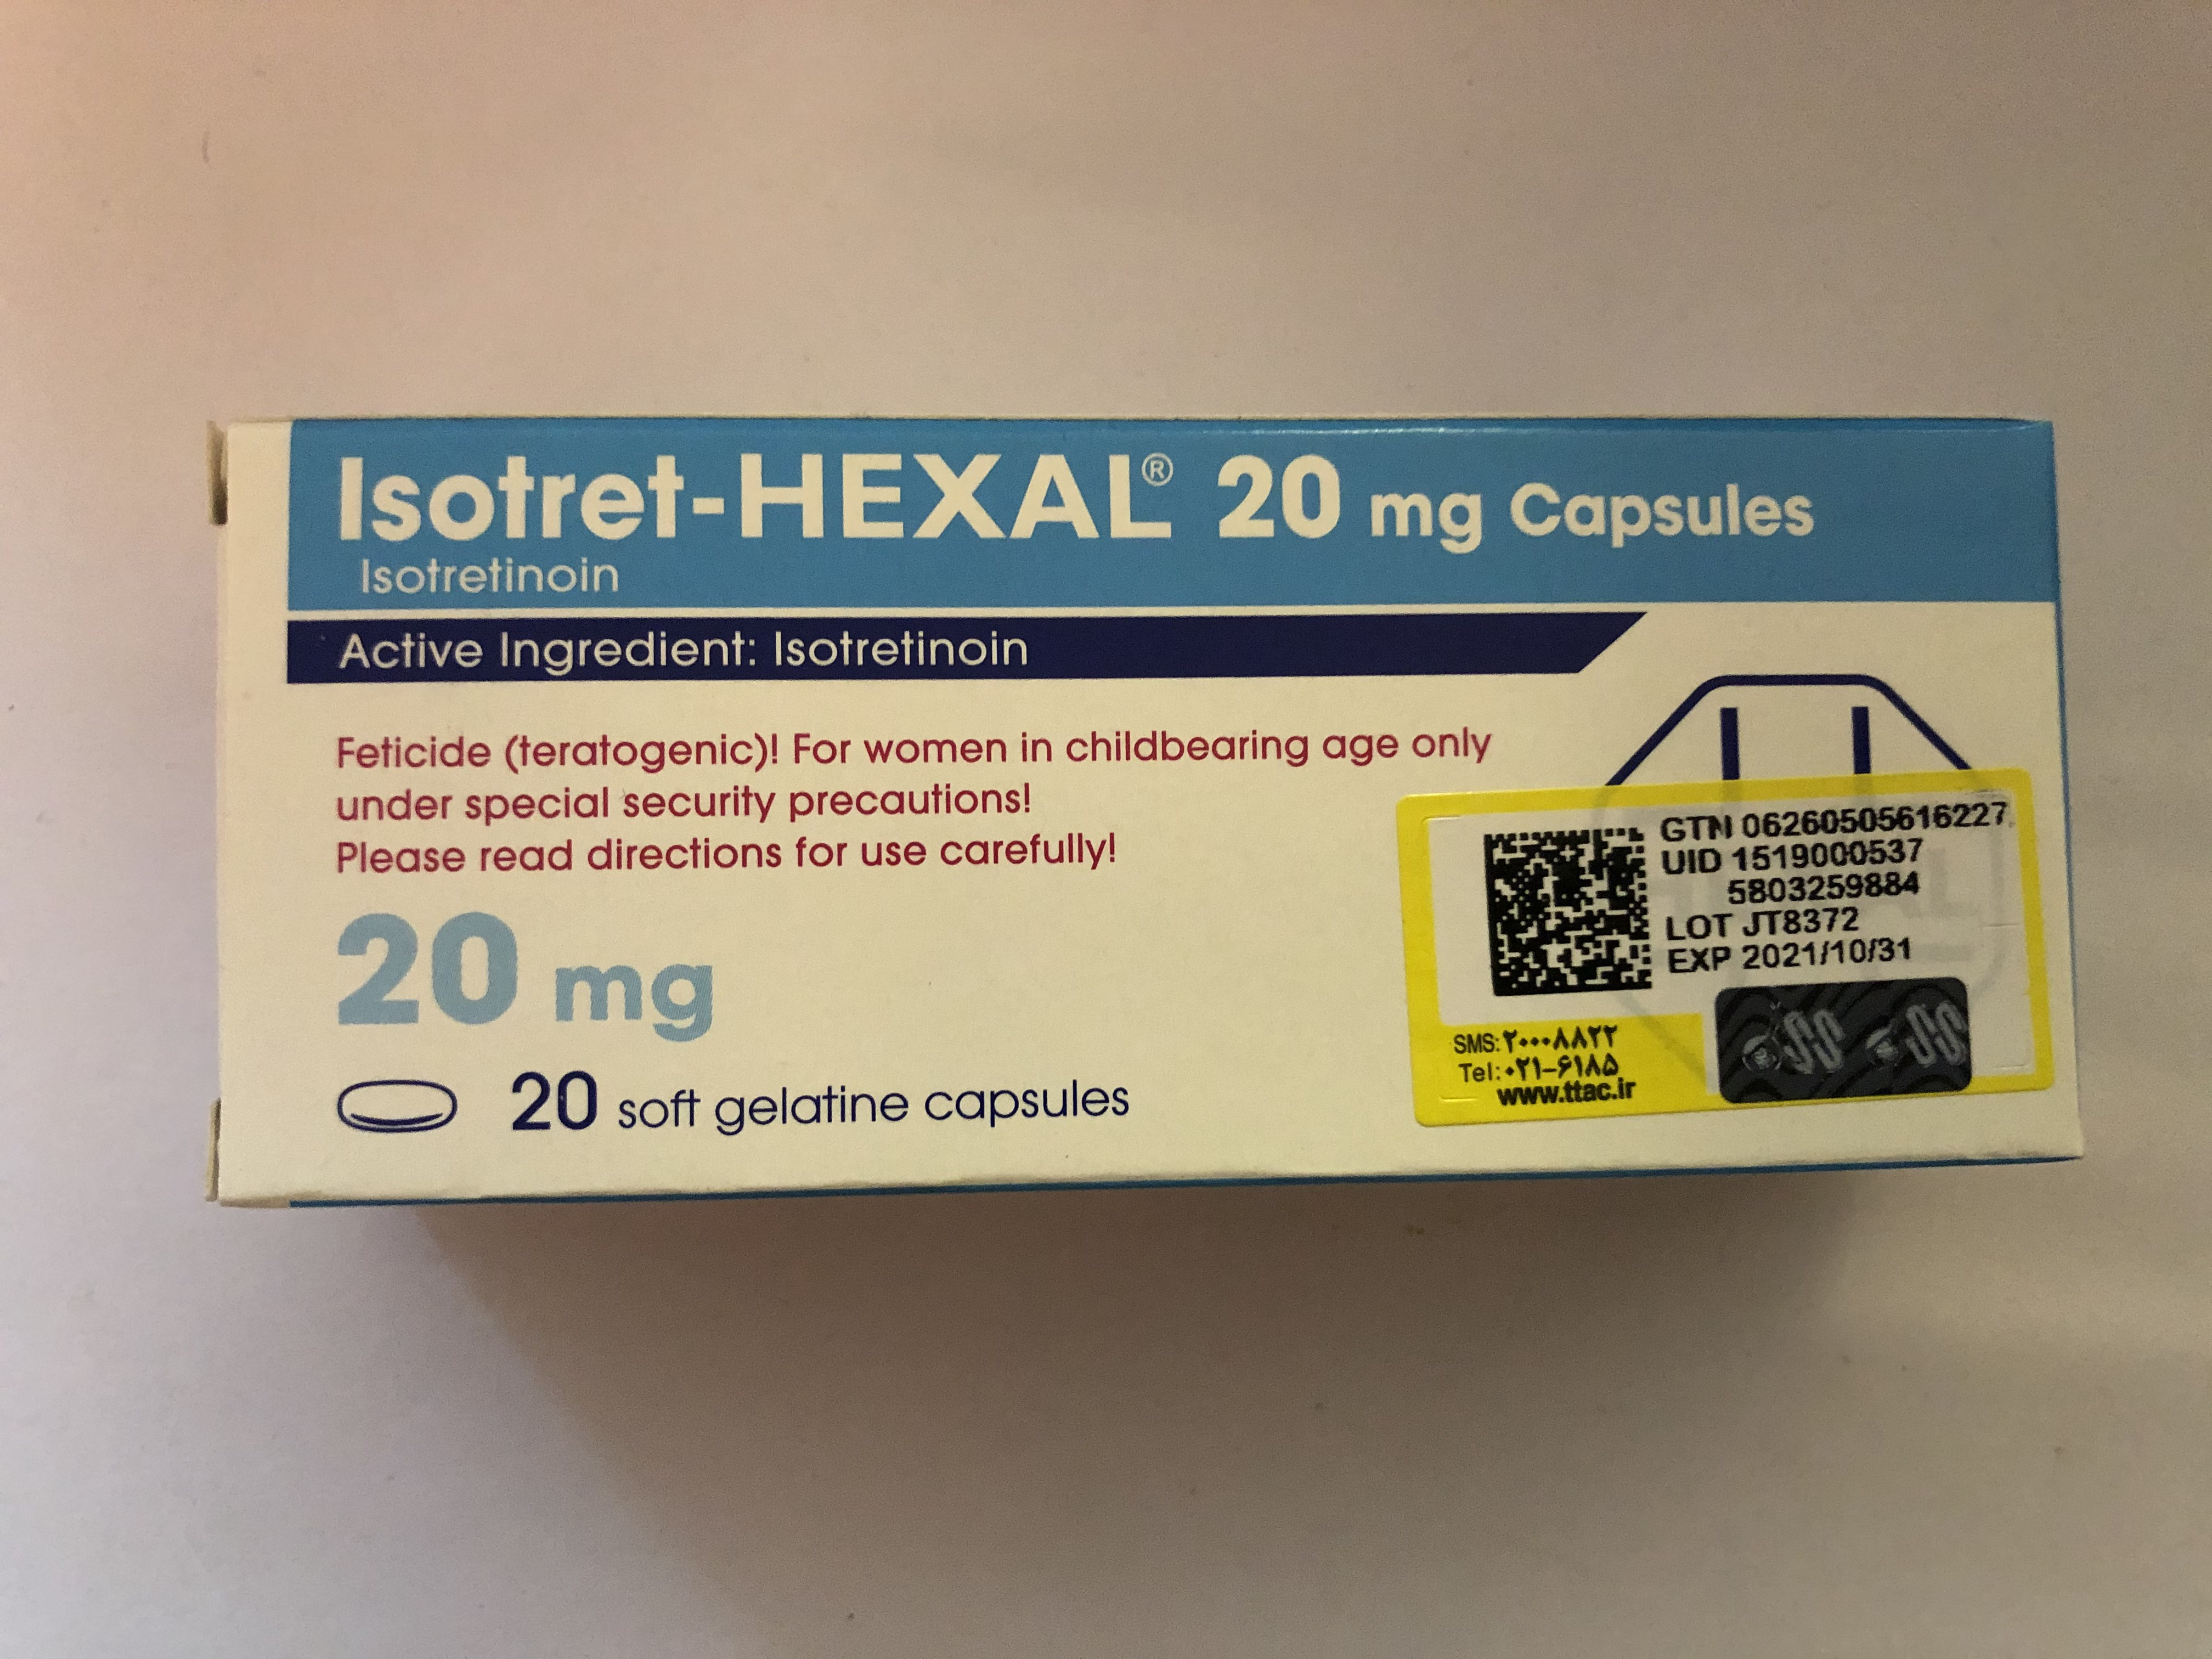Medicine name: (314, 441, 1494, 568)
